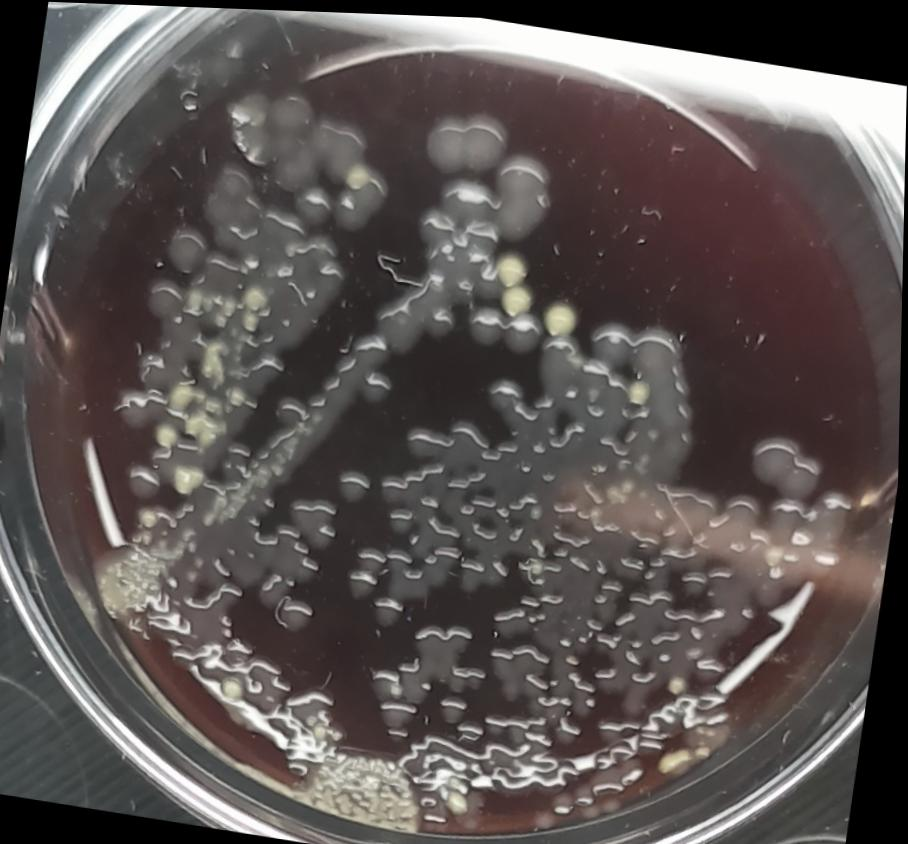asalmonicida: (307, 323, 399, 438), (371, 260, 464, 368), (413, 166, 507, 259), (418, 100, 516, 180), (195, 158, 266, 256), (585, 311, 689, 377), (488, 150, 560, 245), (644, 366, 709, 468), (262, 82, 323, 184), (745, 429, 828, 499), (412, 614, 482, 680), (282, 488, 344, 558), (309, 114, 373, 167), (160, 225, 213, 279), (481, 365, 531, 420), (345, 541, 389, 602), (141, 274, 189, 323), (458, 552, 512, 595), (291, 179, 339, 226), (464, 301, 510, 350), (334, 460, 378, 506), (276, 591, 320, 635), (379, 691, 424, 734), (369, 589, 413, 632), (505, 308, 547, 353), (403, 419, 444, 463), (273, 390, 312, 431), (437, 689, 476, 728), (369, 664, 408, 700), (383, 501, 418, 538)
